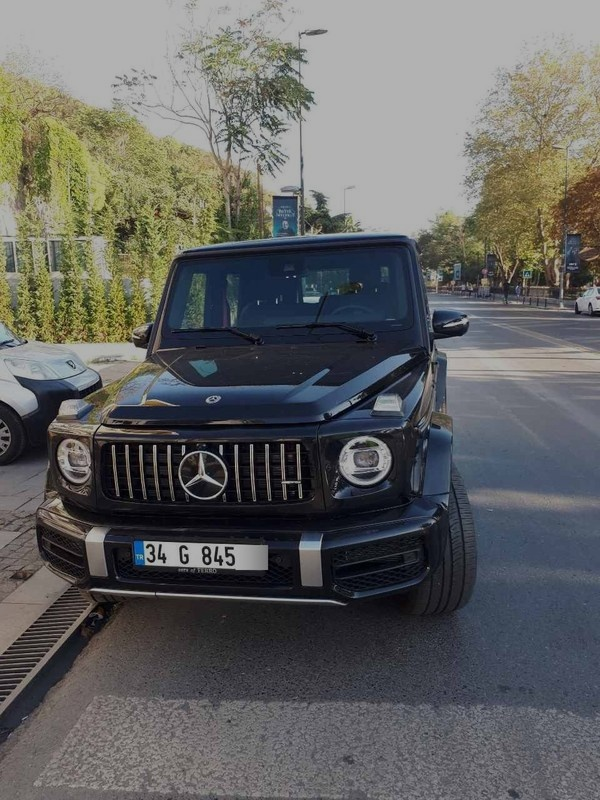plaka: (138, 538, 258, 571)
